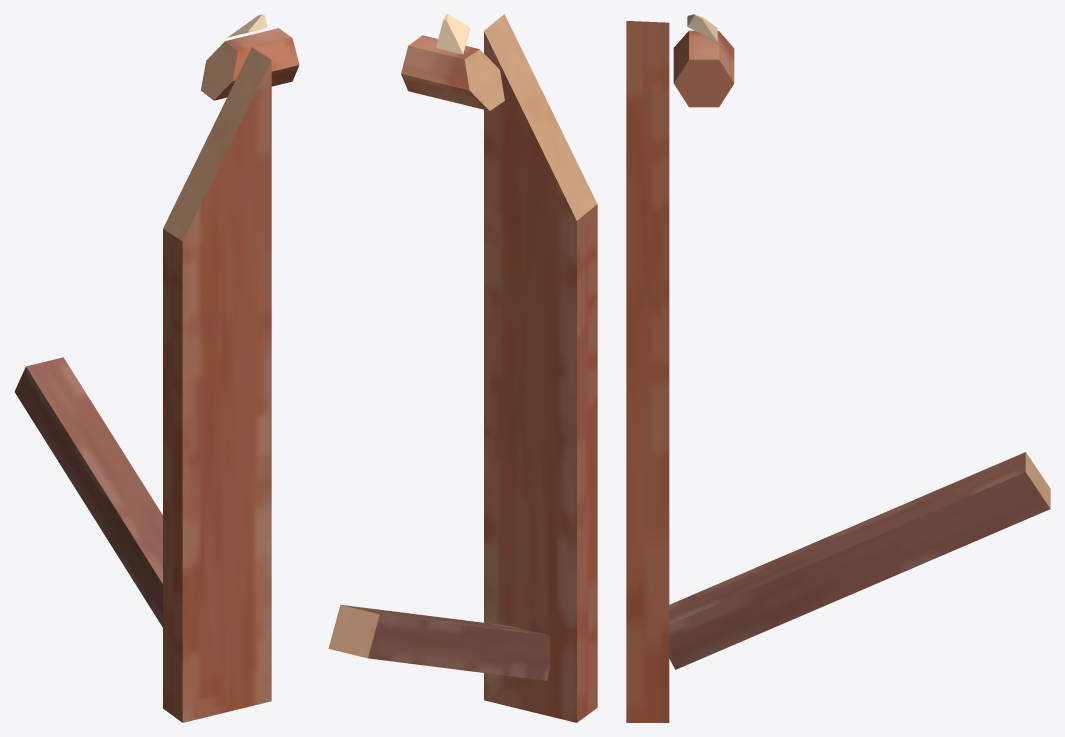
The model's file is awning_s01.fbx.
3 views of the same model, side by side, from view 1: azimuth 30°, elevation 25°; view 2: azimuth 150°, elevation 25°; view 3: azimuth 270°, elevation 25° (orthographic). The views are drawn at different scales.
Visible parts, largest first — view 1: awning_s01; view 2: awning_s01; view 3: awning_s01.
Part boxes in pixels (x1,y1,x2,y2): awning_s01: [14, 14, 299, 722]; awning_s01: [328, 14, 597, 722]; awning_s01: [626, 14, 1050, 722].
Bounding box in the file's own units: 0.81 × 3.68 × 1.96.
